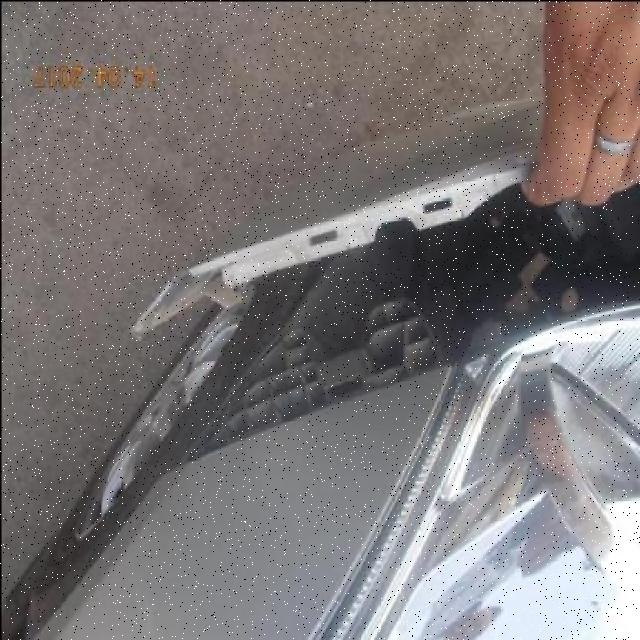damage: (127, 161, 640, 476)
